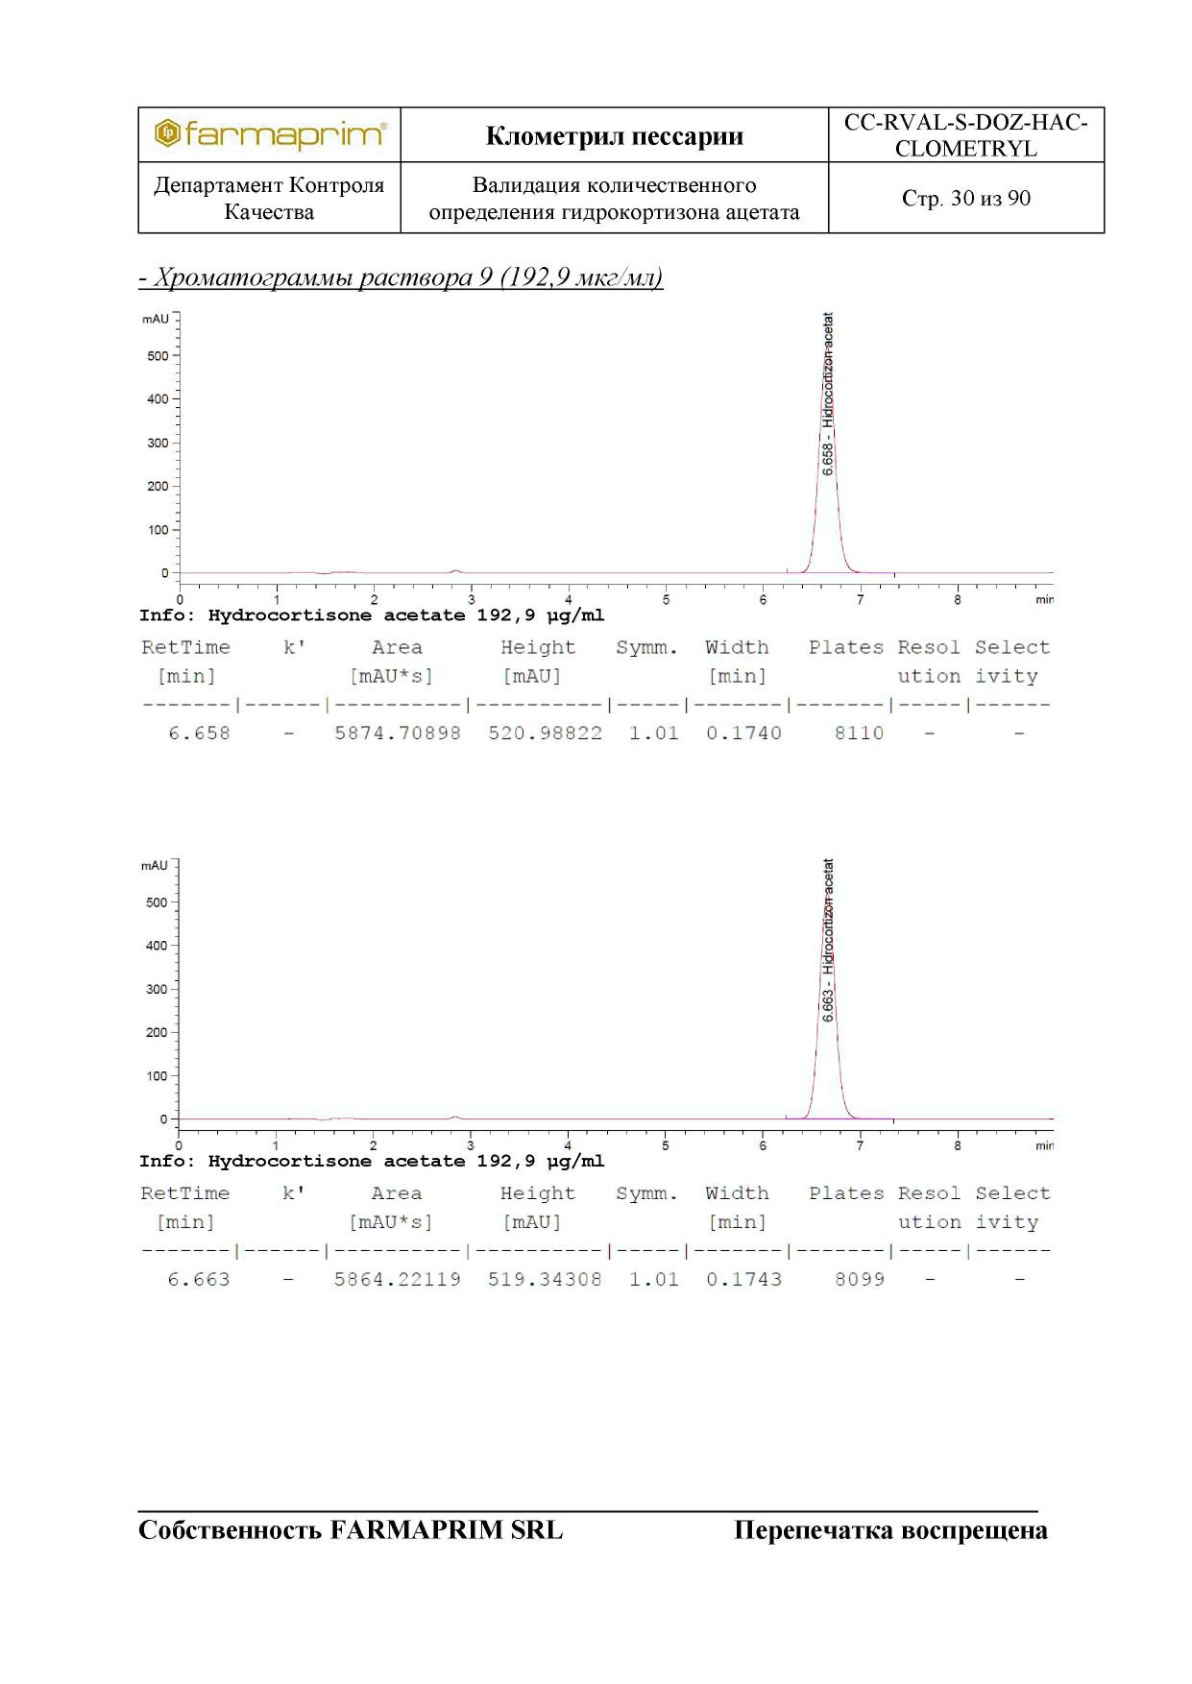full_lined: (135, 103, 1107, 233)
partial_lined: (137, 1180, 1060, 1295), (135, 634, 1057, 749)
